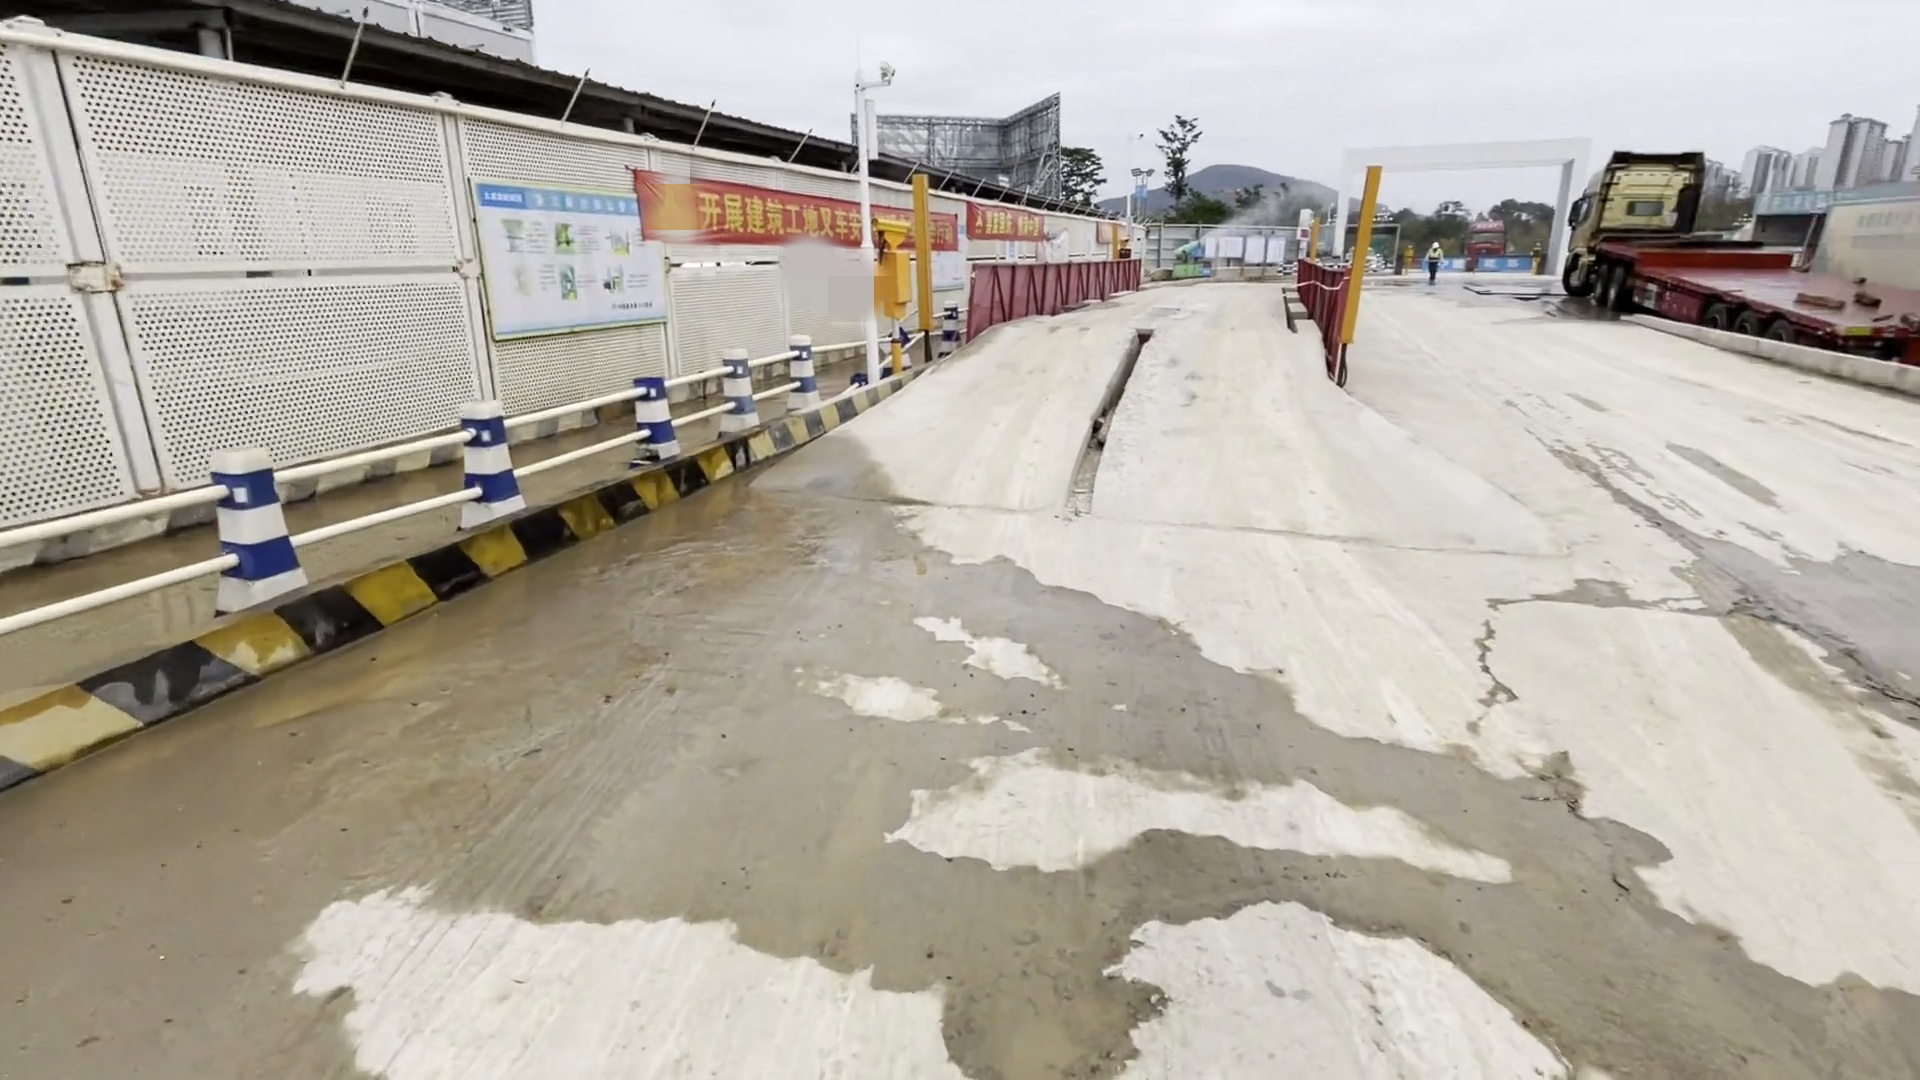fence: (965, 257, 1147, 334), (1299, 272, 1354, 364)
slogan: (632, 167, 1056, 264), (475, 171, 686, 353)
